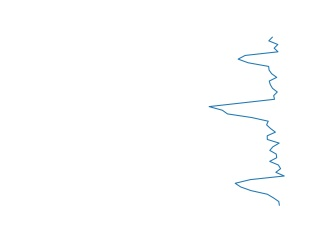underwaterNaturalLevee: (204, 38, 287, 207)
